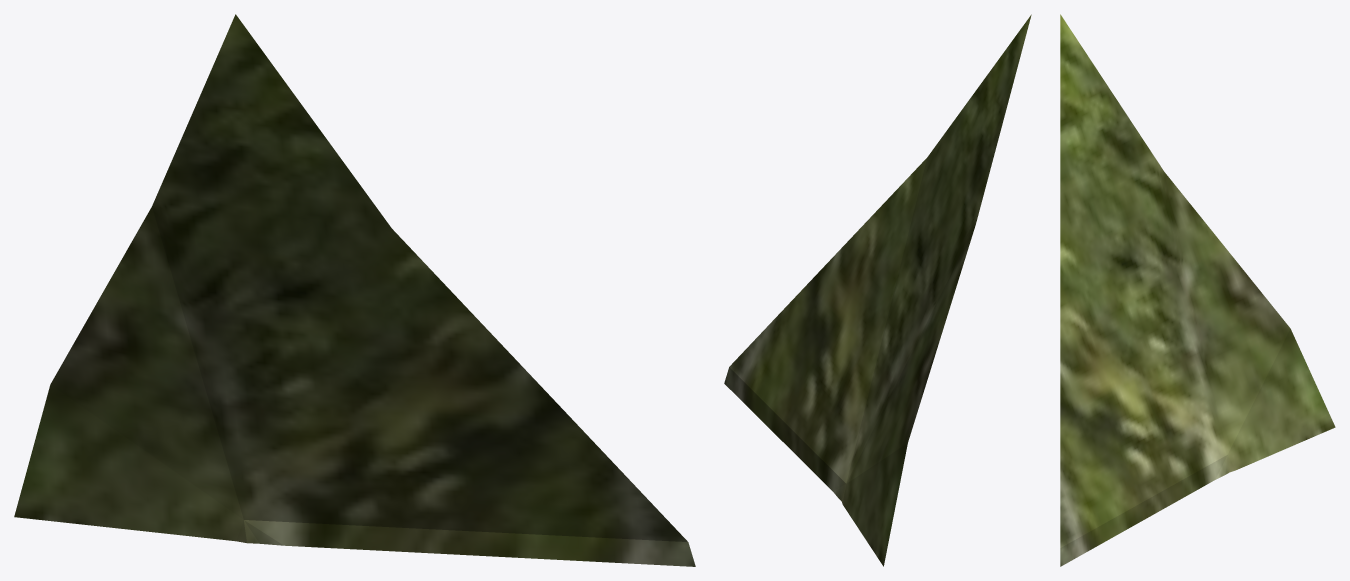
3 renders of one model, left to right at view 1: azimuth 30°, elevation 25°; view 2: azimuth 150°, elevation 25°; view 3: azimuth 270°, elevation 25°, orthographic. The views are drawn at different scales.
Bounding box in the file's own units: 0.84 × 1.16 × 0.7002.
1 material, 1 textured.
